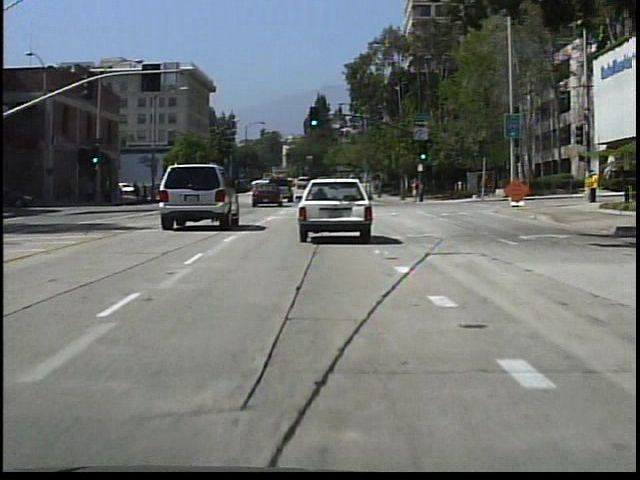person: (408, 174, 424, 208)
